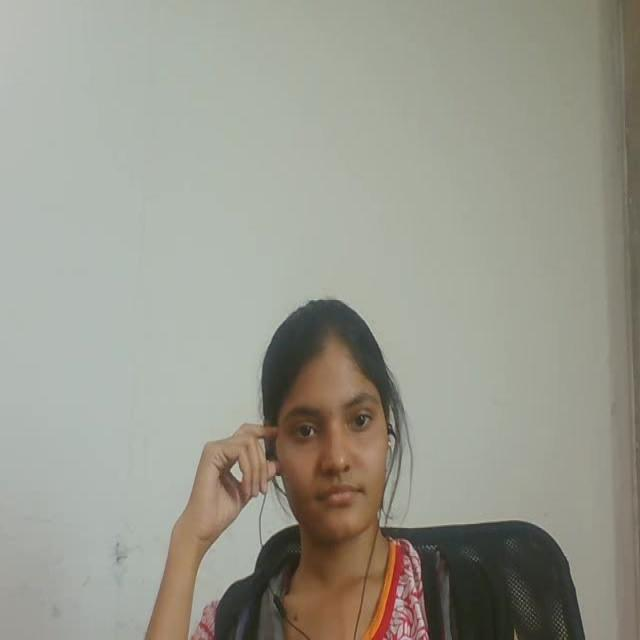Engaged: (231, 264, 444, 565)
